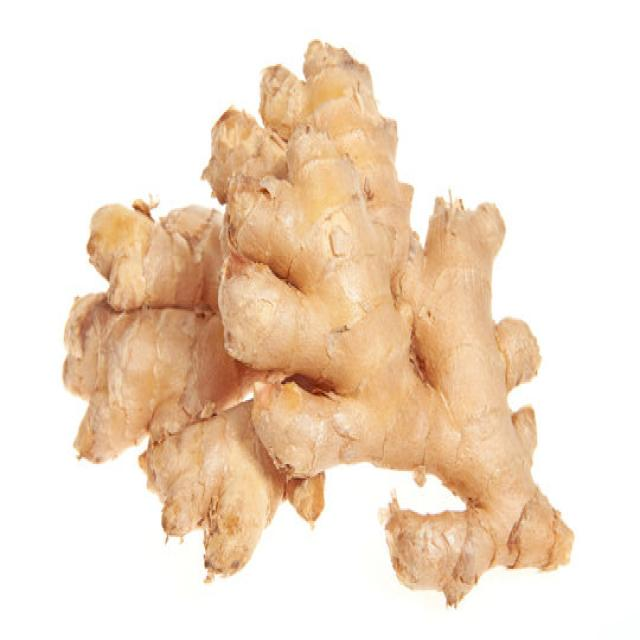Ginger: (213, 52, 574, 608), (60, 290, 280, 464), (137, 395, 325, 581), (86, 195, 226, 313)
